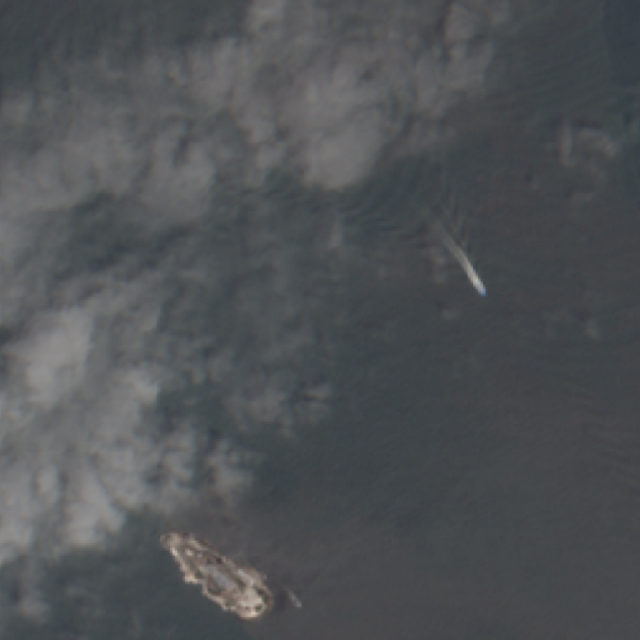wake: (340, 114, 540, 330)
